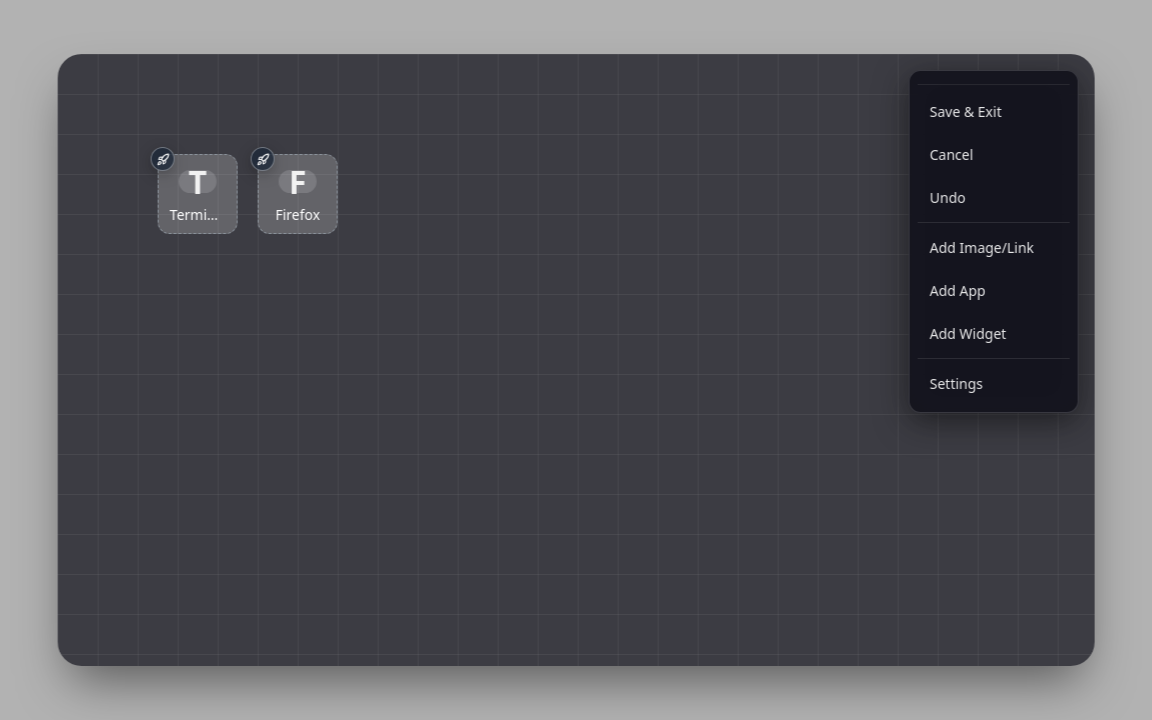
it: App edit-mode keybind › saves the session when leaving edit mode with the keybind
Expected: the element with class "floating-toolbar" is shown, x1=909 y1=70 x2=1079 y2=413
Press the mouse on the button with class "app-icon" showing "T Terminal" at (198,194), box x1=158 y1=154 x2=238 y2=234
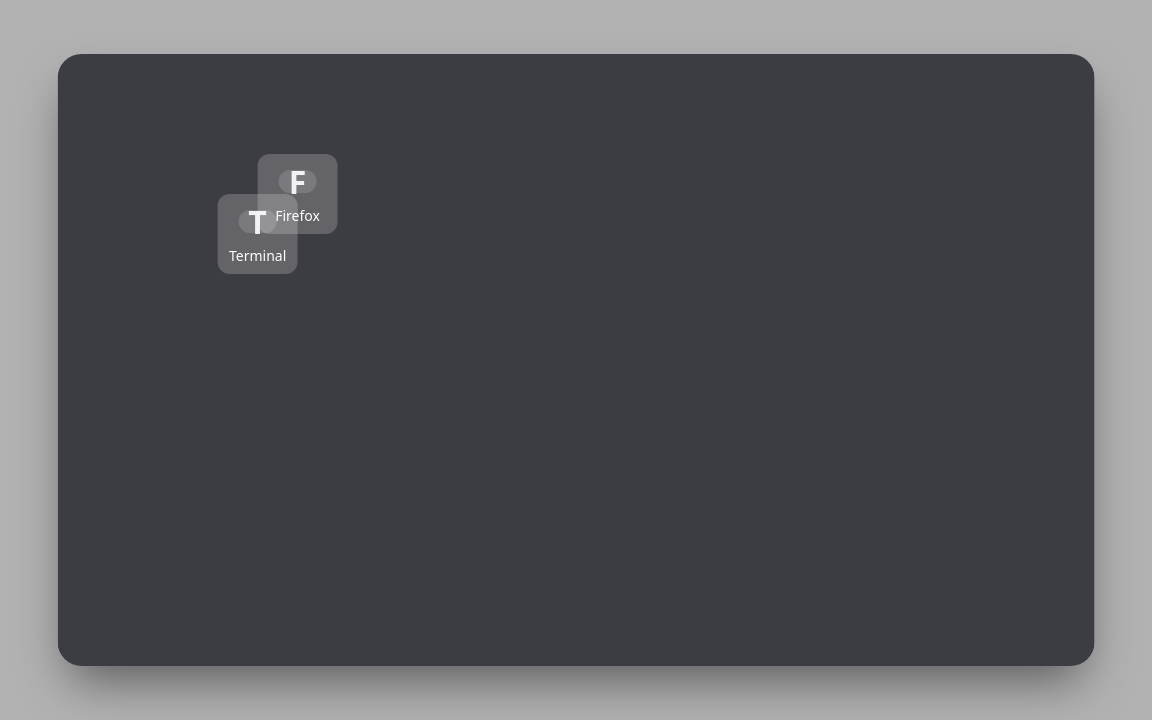
Expected: the element with class "floating-toolbar" is gone
